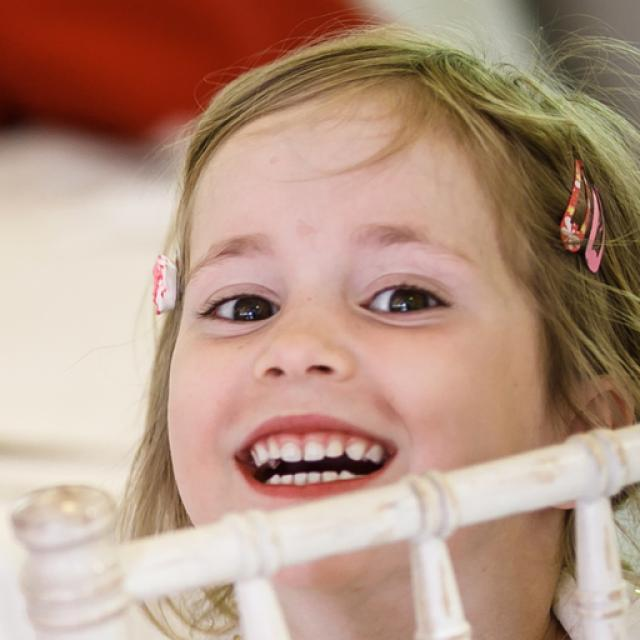happy: (166, 82, 548, 590)
